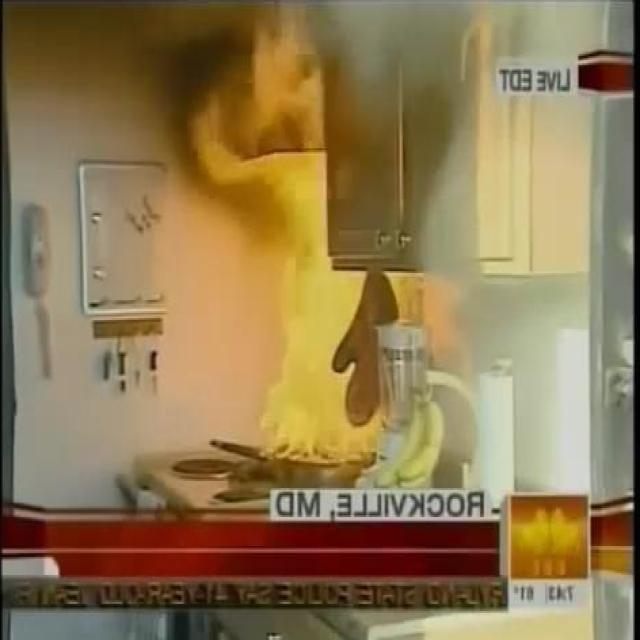fire: (306, 1, 455, 106)
smoke: (259, 150, 380, 465)
